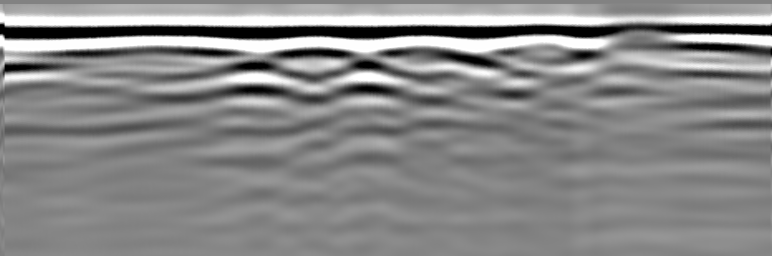pipe: (600, 21, 681, 47)
steel: (383, 43, 489, 66), (265, 44, 359, 64)
